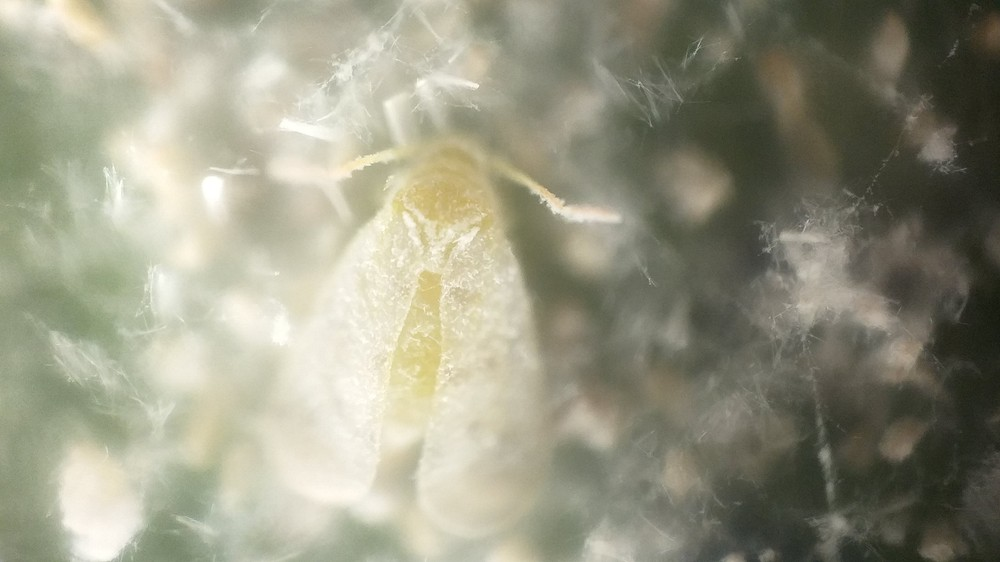Mosca Blanca: (224, 126, 641, 539)
